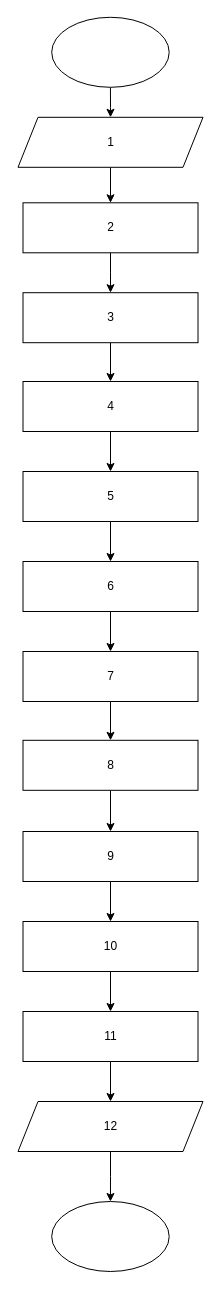
This 220x1290 diagram has some shape labels left out. The centre of each missing label's shape, as x and y in pixels:
END: point 110,1236
START: point 110,51
